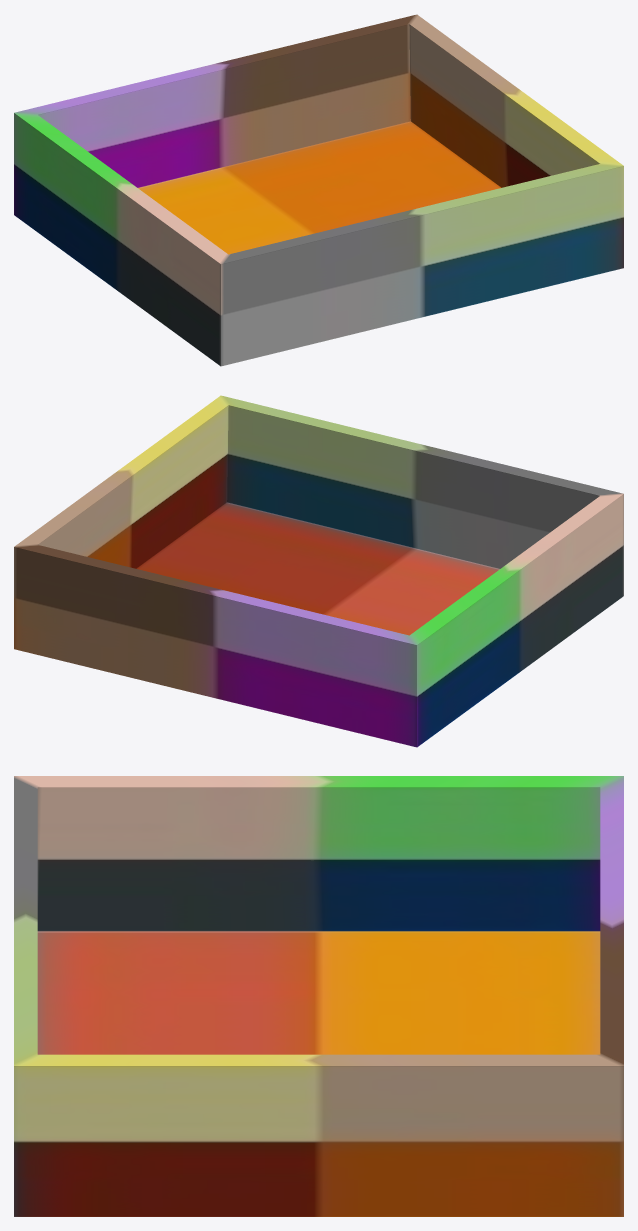
Rendered from Çekmece1.fbx.
3 views of the same model, one above another, from view 1: azimuth 30°, elevation 25°; view 2: azimuth 150°, elevation 25°; view 3: azimuth 270°, elevation 25° (orthographic). The views are drawn at different scales.
Visible parts, largest first — view 1: Cube.002; view 2: Cube.002; view 3: Cube.002.
Part boxes in pixels (x1=…): Cube.002: x1=14, y1=14, x2=623, y2=366; Cube.002: x1=14, y1=395, x2=623, y2=747; Cube.002: x1=14, y1=776, x2=623, y2=1216.
Bounding box in the file's own units: 169 × 41.07 × 151.
1 material, 1 textured.
